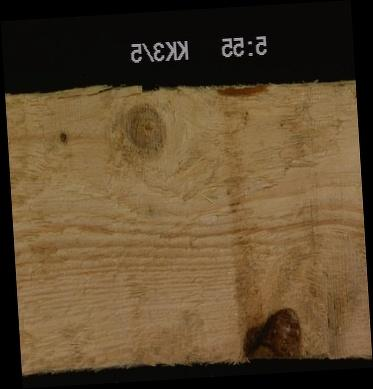small_knot: (55, 128, 70, 145)
sound_knot: (105, 97, 168, 169)
